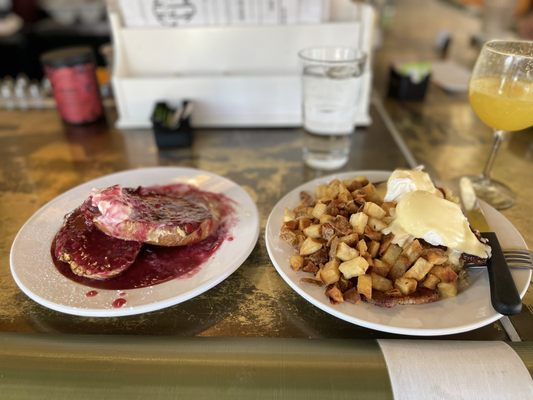pizza: (299, 45, 367, 171), (39, 44, 105, 127)
